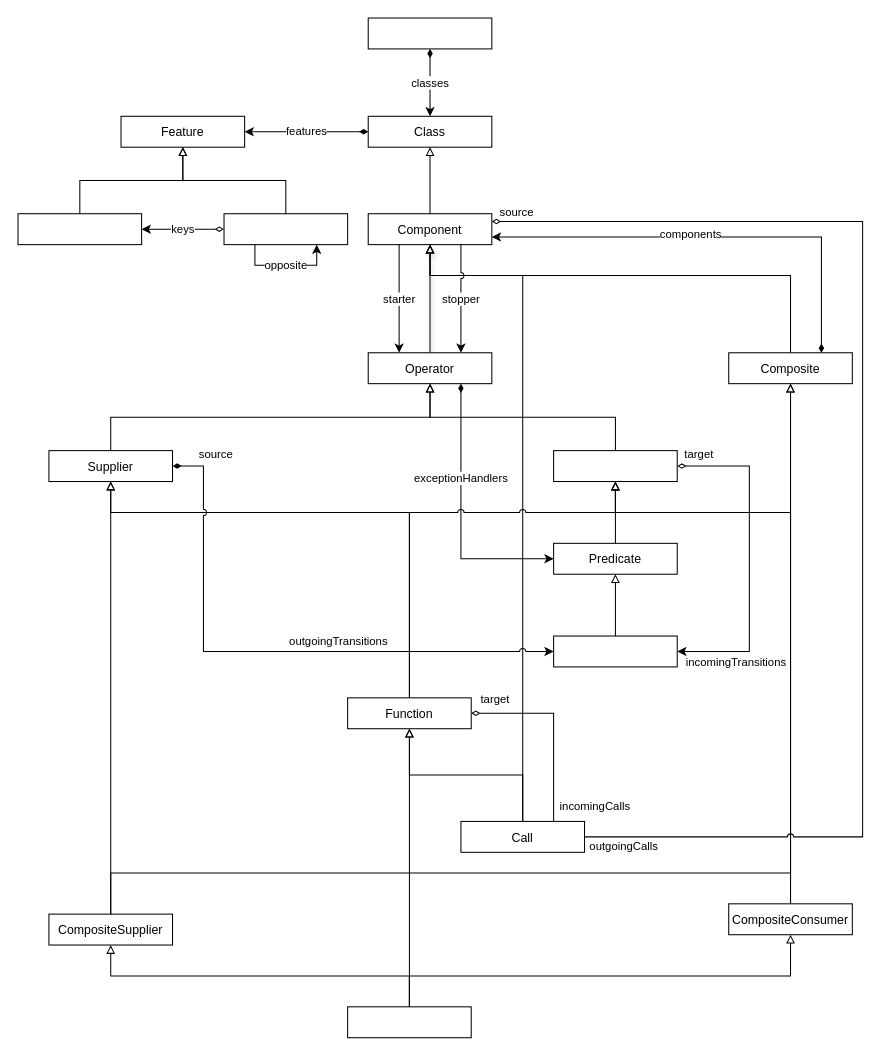
Some shapes in this 889 by 1056 pixel diagram are drawn without their labels. The shapes that lost their labels are listed below. From the top down, each one's centre as x and y in pixels, then its label:
pixel 429 33: Package
pixel 79 229: Attribute
pixel 285 229: Reference
pixel 615 466: Consumer
pixel 615 651: Transition
pixel 409 1022: CompositeFunction
